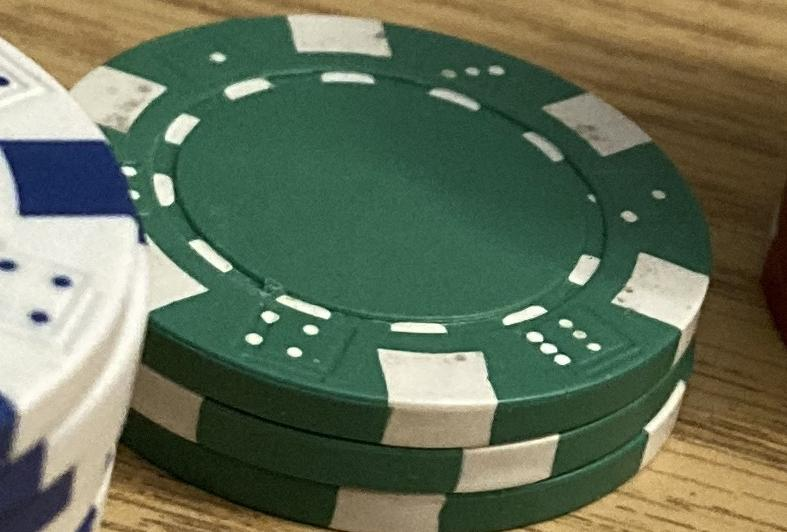Chip: (1, 1, 787, 532)
